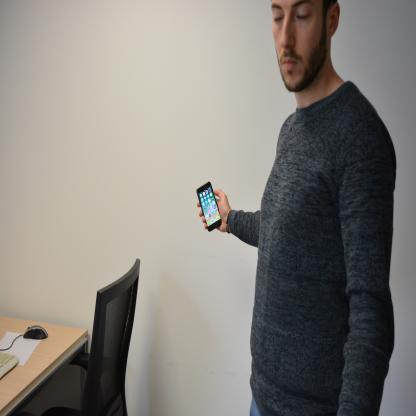smartphone: (196, 181, 222, 231)
